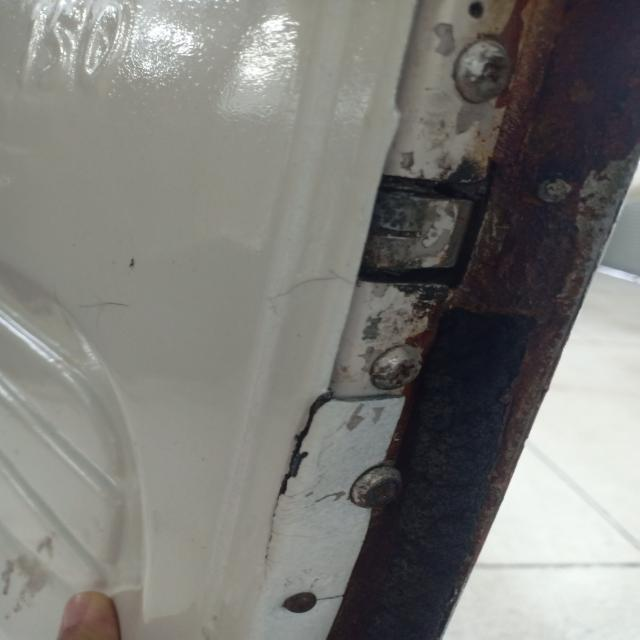Rupture: (243, 240, 348, 332), (72, 273, 154, 344)
